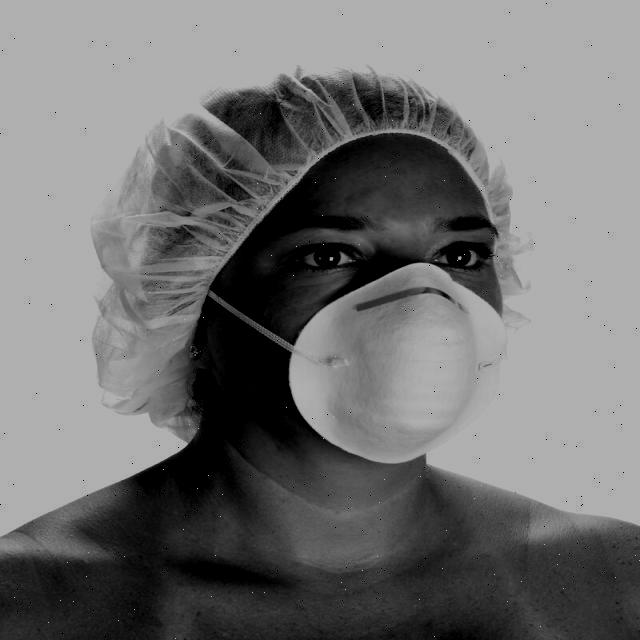fake: (281, 260, 515, 488)
real: (220, 129, 505, 468)
